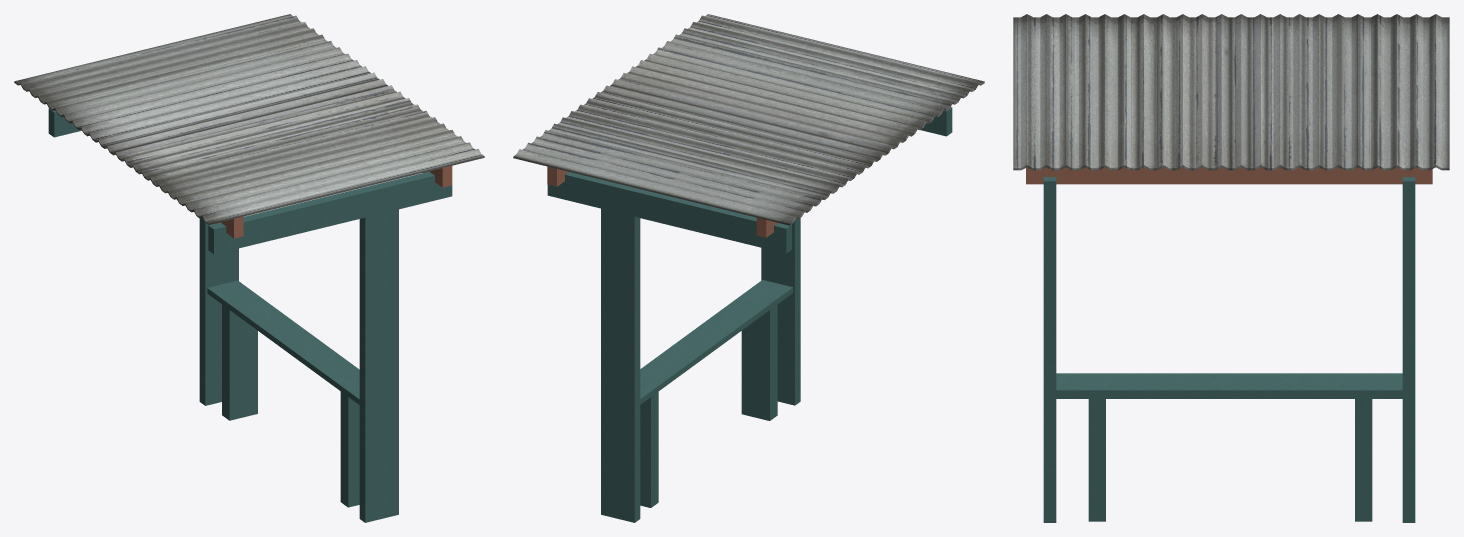
Rendered from ponto cmtc cimento com banco.fbx.
3 renders of one model, left to right at view 1: azimuth 30°, elevation 25°; view 2: azimuth 150°, elevation 25°; view 3: azimuth 270°, elevation 25°, orthographic. The views are drawn at different scales.
Parts seen in each view (by area): view 1: telhado, base verde, Cube, base laranja; view 2: telhado, base verde, Cube, base laranja; view 3: telhado, Cube, base verde, base laranja.
Part boxes in pixels (x1,y1,x2,y2): telhado: [14, 14, 484, 224]; base verde: [48, 108, 452, 522]; Cube: [207, 280, 359, 507]; base laranja: [214, 166, 452, 238]; telhado: [513, 14, 984, 225]; base verde: [547, 107, 952, 522]; Cube: [640, 280, 793, 507]; base laranja: [547, 166, 777, 237]; telhado: [1013, 14, 1449, 170]; Cube: [1056, 373, 1402, 521]; base verde: [1043, 177, 1415, 522]; base laranja: [1026, 167, 1432, 184].
Bounding box in the file's own units: 2.95 × 3.61 × 3.59.
